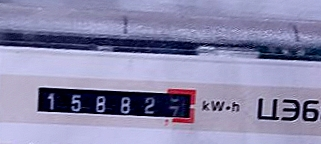1: (43, 89, 56, 109)
2: (142, 94, 155, 114)
5: (68, 91, 81, 112)
7: (167, 102, 178, 117)
8: (118, 93, 131, 115), (93, 92, 106, 113)
screen: (27, 72, 205, 130)
